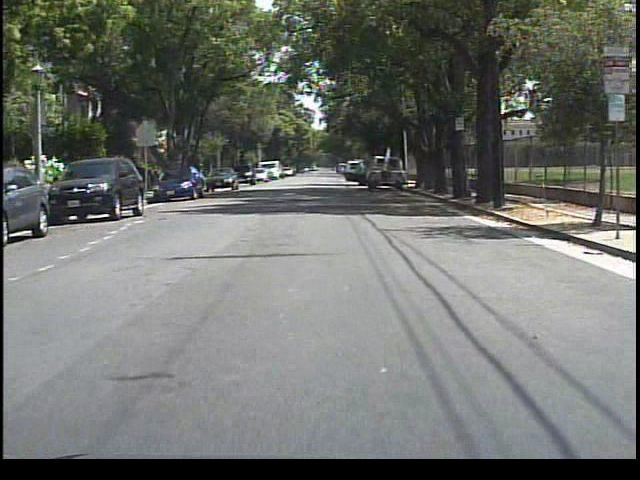person: (353, 162, 369, 187)
